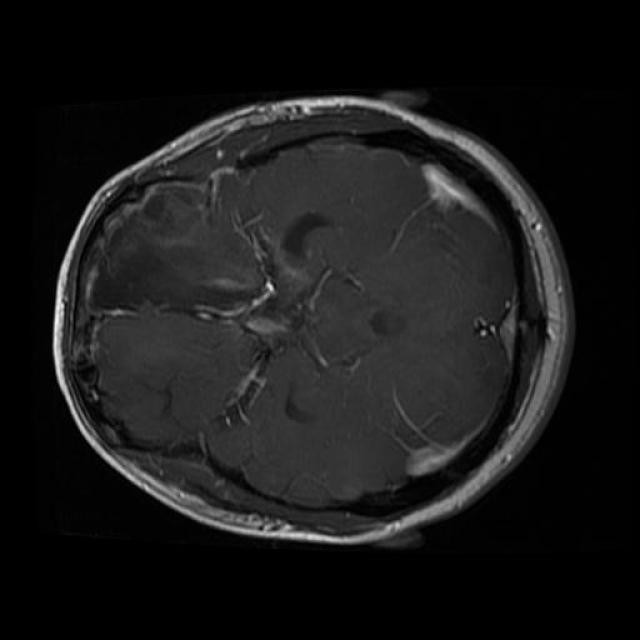Glioma: (84, 182, 274, 320)
